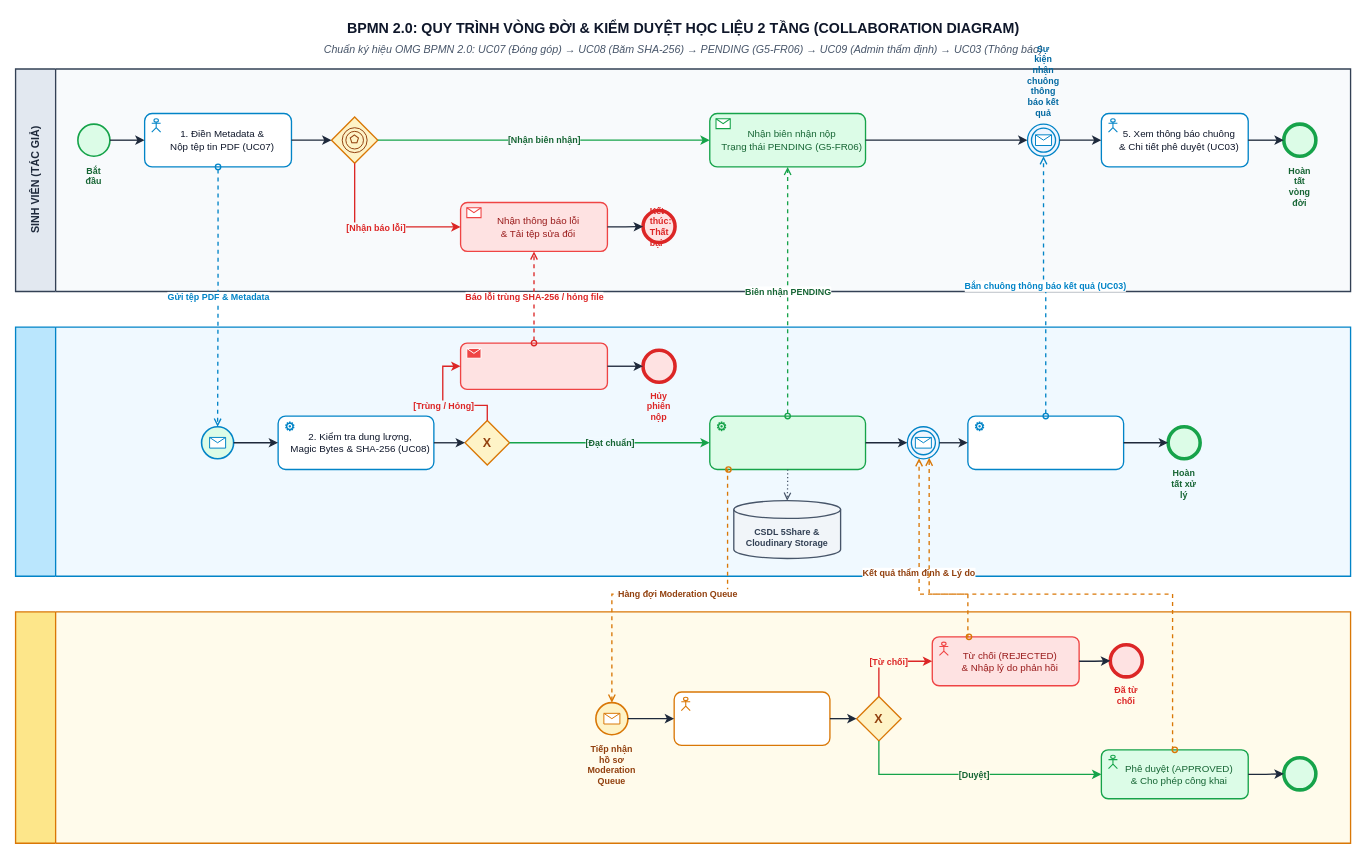
This 1367x859 diagram has some shape labels left out. The shapes that lost their labels are listed below. From the top down, each one's box as (x1, y1, x2, y2) in pixels, then its label:
(330, 116, 378, 164): Chờ phản hồi
(460, 342, 608, 390): Phản hồi từ chối nộp (Báo trùng / File lỗi)
(200, 426, 234, 459): Nhận yêu cầu nộp
(15, 326, 1351, 577): HỆ THỐNG 5SHARE (BACKEND)
(709, 415, 866, 470): 3. Lưu Cloudinary & Gán PENDING CSDL (G5-FR06)
(906, 426, 940, 459): Nhận quyết định từ Quản trị viên
(967, 415, 1124, 470): Cập nhật trạng thái CSDL & Bắn thông báo chuông (UC03)
(15, 611, 1351, 844): QUẢN TRỊ VIÊN (ADMIN)
(673, 691, 830, 746): 4. Xem trước toàn văn & Thẩm định 8 tiêu chí (UC09)
(1282, 756, 1317, 791): Đã phê duyệt
